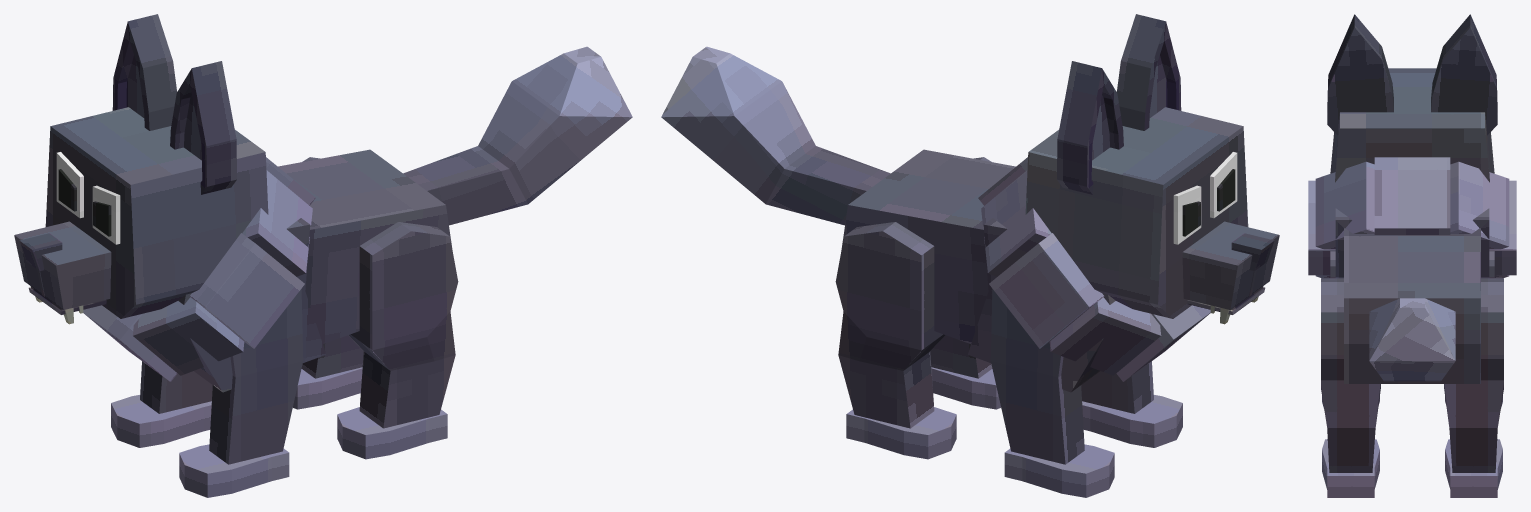
Rendered from animal_wolf.obj.
The picture shows the model from 3 angles, left to right: view 1: azimuth 30°, elevation 25°; view 2: azimuth 150°, elevation 25°; view 3: azimuth 270°, elevation 25°; orthographic projection. The views are drawn at different scales.
Visible parts, largest first — view 1: animal_wolf; view 2: animal_wolf; view 3: animal_wolf.
Boxes of the visible parts, <box> form: animal_wolf: <box>14,14,632,497</box>; animal_wolf: <box>661,14,1279,497</box>; animal_wolf: <box>1308,14,1516,497</box>.
Bounding box in the file's own units: 5.79 × 3.96 × 1.98.
1 material, 1 textured.
